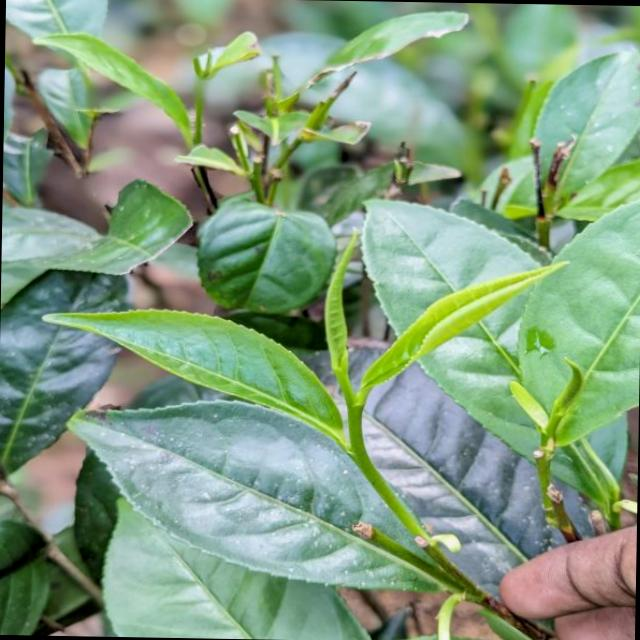Stem: (354, 452, 375, 474)
